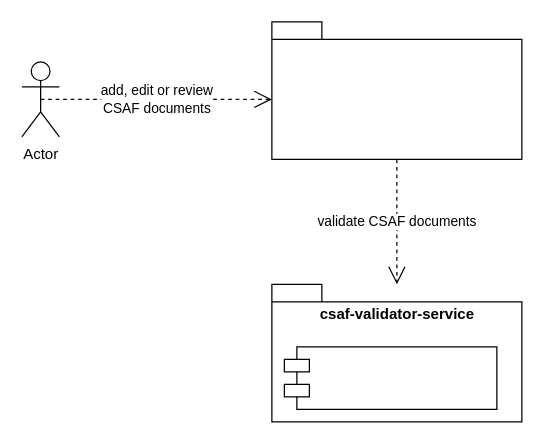
The diagram is 544 pixels wide and 444 high, and some of its shapes have lost their labels. The box of each missing label's shape, as (x1, y1, x2, y2) in pixels:
csaf-cms-backend: (271, 21, 522, 159)
csaf-validator-lib: (283, 346, 497, 409)
